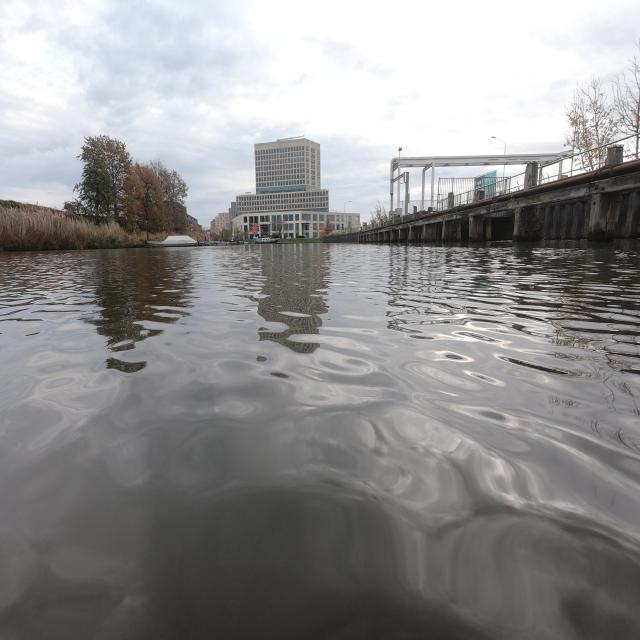boat: (146, 235, 198, 247), (254, 237, 278, 244)
reed: (8, 204, 138, 248)
tree: (72, 135, 188, 237)
wall: (332, 164, 638, 242)
water: (0, 241, 640, 640)
